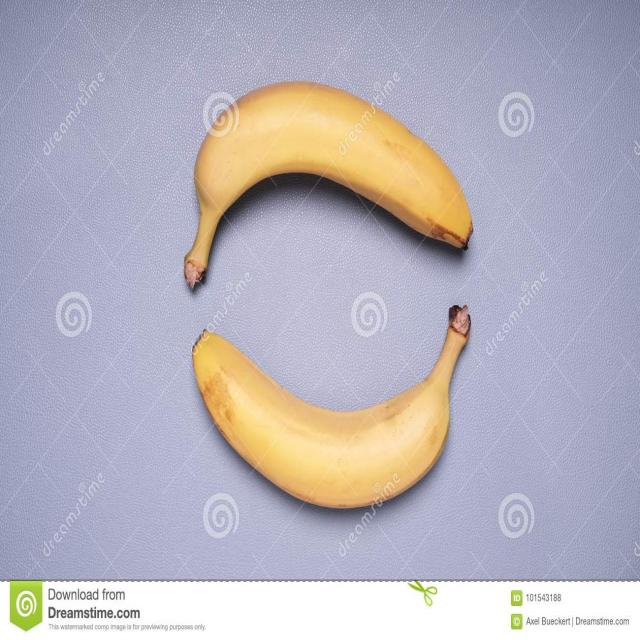Banana: (191, 78, 481, 298), (195, 303, 472, 512)
